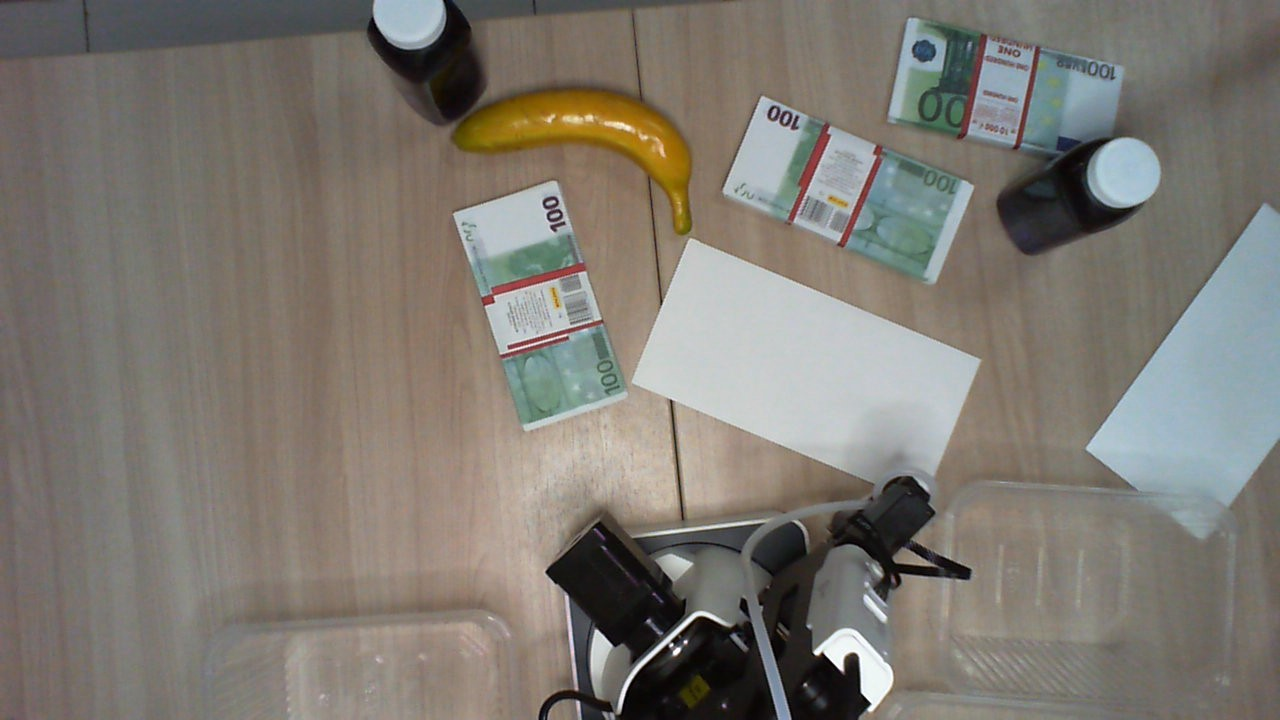banana: (451, 84, 694, 236)
bottle: (1056, 134, 1162, 226), (366, 1, 469, 75)
convert: (630, 235, 984, 496), (1085, 201, 1279, 544)
money: (721, 95, 976, 286), (450, 179, 627, 436), (884, 16, 1125, 160)
